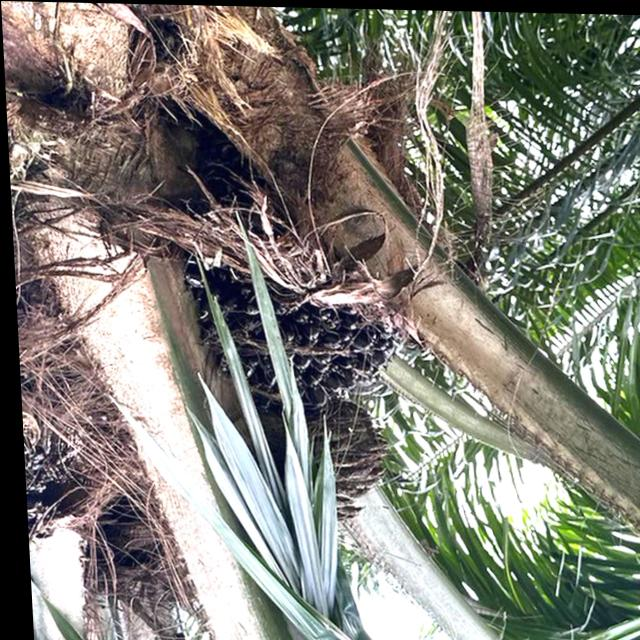unripe: (170, 224, 411, 416)
